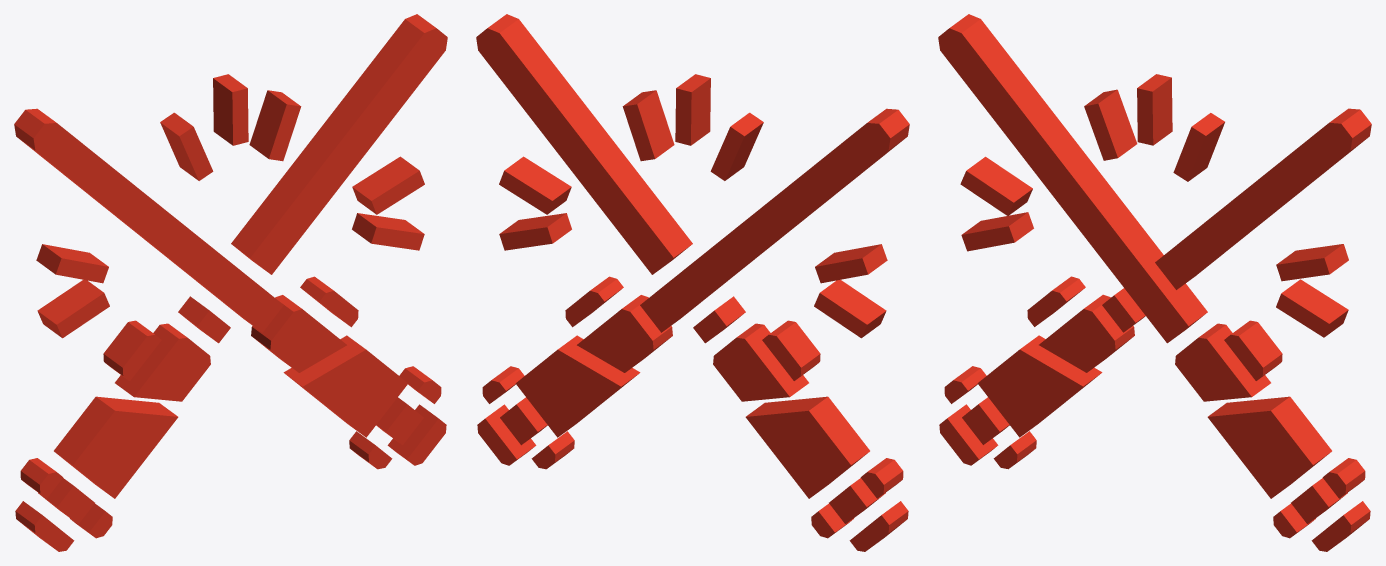
The model's file is Icon_Lightsaber_02.fbx.
3 renders of one model, left to right at view 1: azimuth 30°, elevation 25°; view 2: azimuth 150°, elevation 25°; view 3: azimuth 330°, elevation 25°, orthographic.
Visible parts, largest first — view 1: Icon_Lightsaber_02; view 2: Icon_Lightsaber_02; view 3: Icon_Lightsaber_02.
Boxes of the visible parts, bbox=[...] form: Icon_Lightsaber_02: bbox=[14, 14, 447, 551]; Icon_Lightsaber_02: bbox=[476, 14, 909, 551]; Icon_Lightsaber_02: bbox=[938, 14, 1371, 551].
Bounding box in the file's own units: 79.38 × 79.15 × 6.42.
